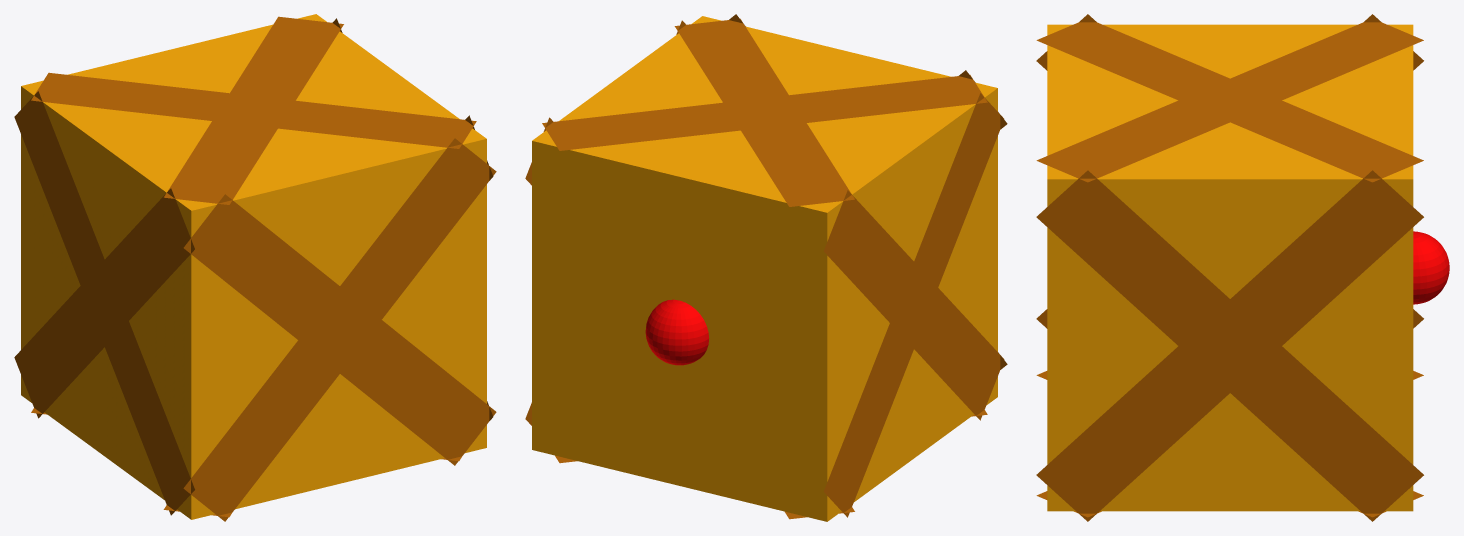
File: auto.glb
3 views of the same model, side by side, from view 1: azimuth 30°, elevation 25°; view 2: azimuth 150°, elevation 25°; view 3: azimuth 270°, elevation 25° (orthographic). The views are drawn at different scales.
Parts seen in each view (by area): view 1: Cube, plane1, plane1.004, plane1.003; view 2: Cube, plane1.004, plane1.003, Sphere; view 3: Cube, plane1.002, plane1.003, Sphere, plane1.004.
Part boxes in pixels (x1,y1,x2,y2): Cube: (21, 14, 486, 519); plane1: (183, 138, 496, 521); plane1.004: (14, 91, 194, 515); plane1.003: (31, 16, 476, 204); Cube: (532, 16, 997, 521); plane1.004: (823, 93, 1004, 517); plane1.003: (542, 18, 987, 206); Sphere: (645, 299, 709, 365); Cube: (1047, 24, 1413, 511); plane1.002: (1036, 170, 1423, 521); plane1.003: (1036, 22, 1423, 182); Sphere: (1413, 231, 1449, 304); plane1.004: (1036, 14, 1423, 328).
Size of the model in its own units: 2.12 by 2.12 by 2.26.
